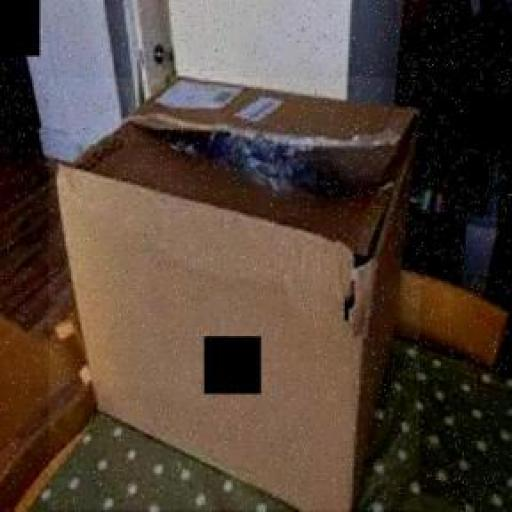box: (49, 78, 420, 510)
